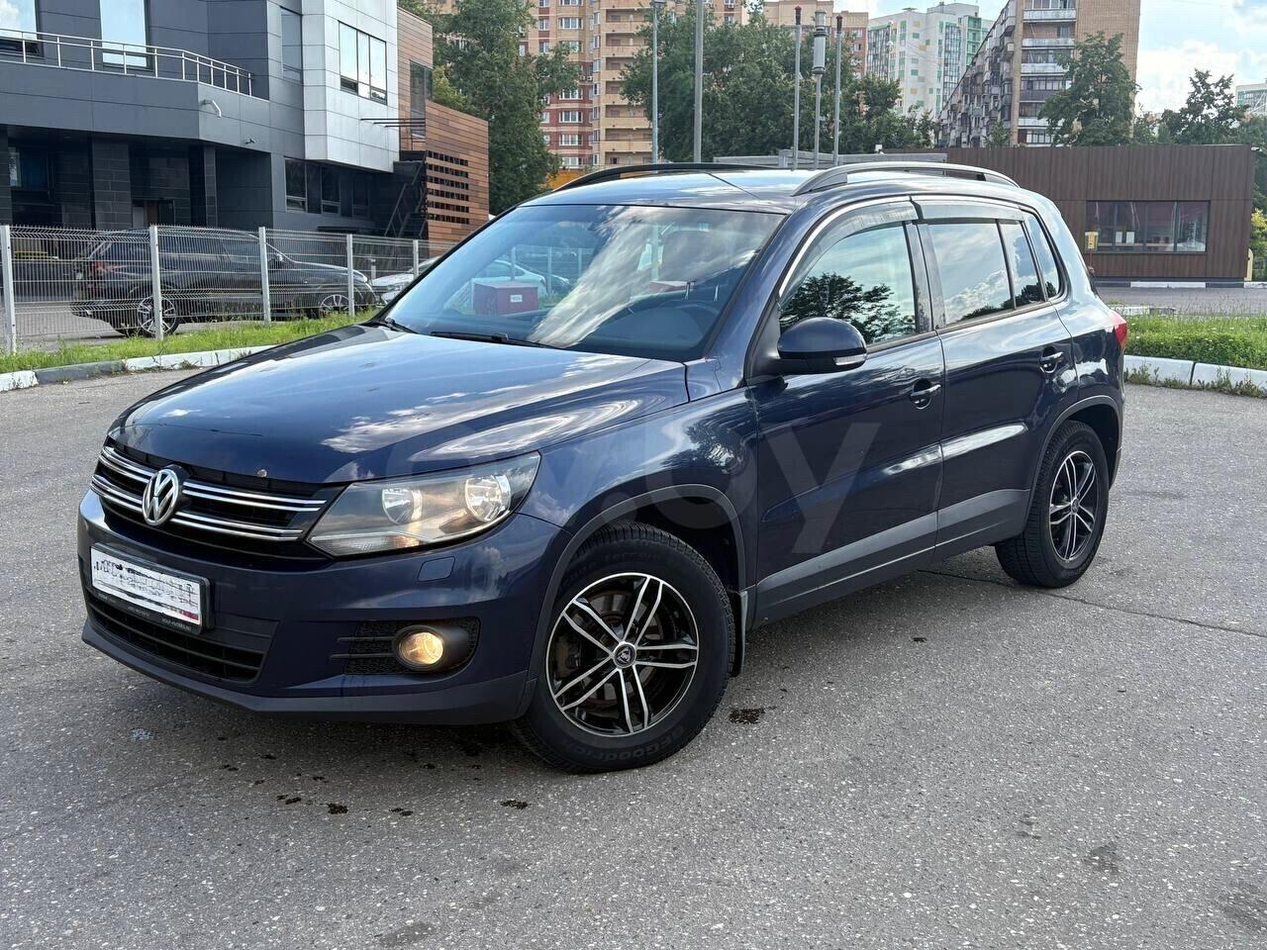Tiguan_2011-2018: (77, 165, 1132, 771)
